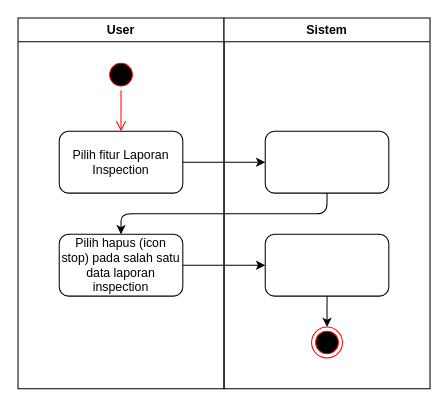
Some shapes in this 448 by 407 pixel diagram are drawn without their labels. The shapes that lost their labels are listed below. From the top down, each one's centre as x and y in pixels, then its label:
At point (326, 161): "Menampilkan halaman laporan inspection".
At point (326, 264): "Perubahan data berhasil tersimpan".
